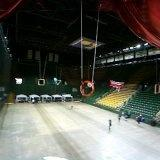Orange_Circle_GShape: (80, 81, 94, 97)
Orange_Square_GShape: (154, 82, 160, 93)
Yellow_Square_GShape: (37, 78, 46, 87)
